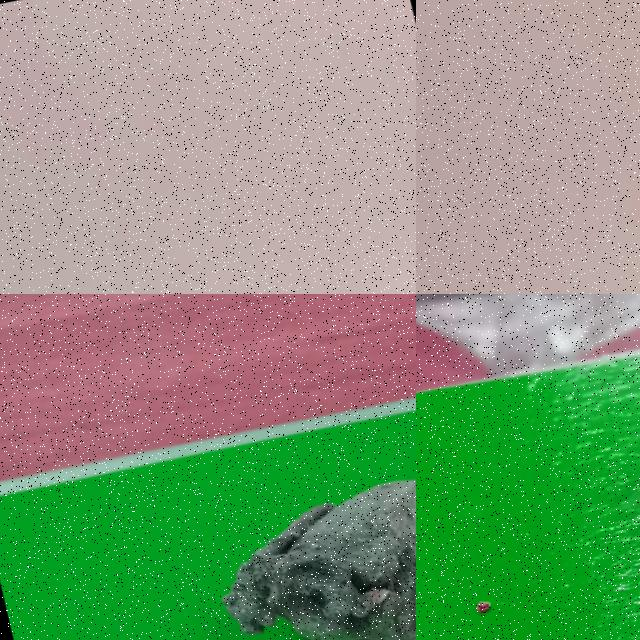Agglomerated_cocoabeans: (149, 437, 415, 639)
Flat_cocoabeans: (565, 327, 639, 639)
